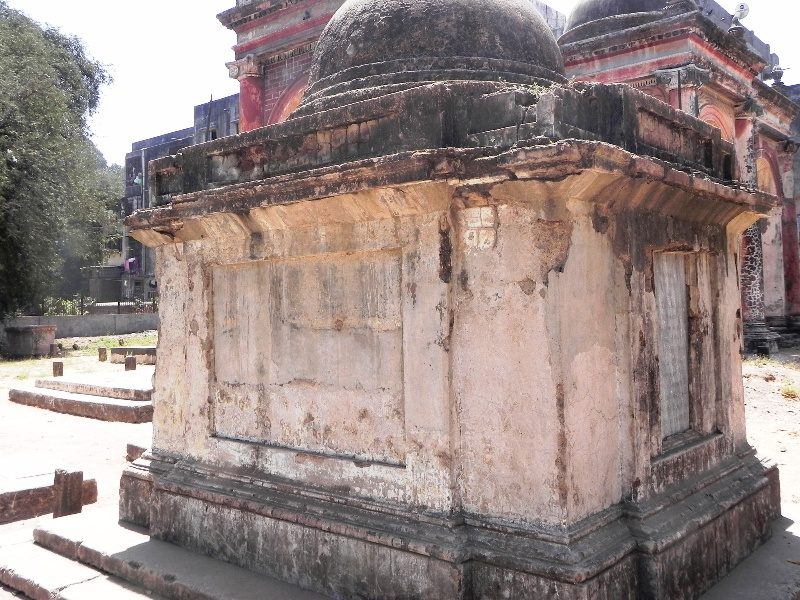Spalling: (530, 216, 573, 290)
